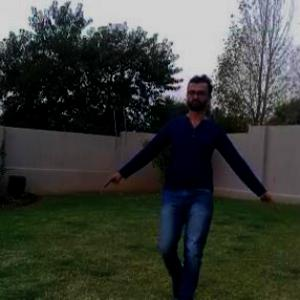land: (108, 77, 275, 296)
